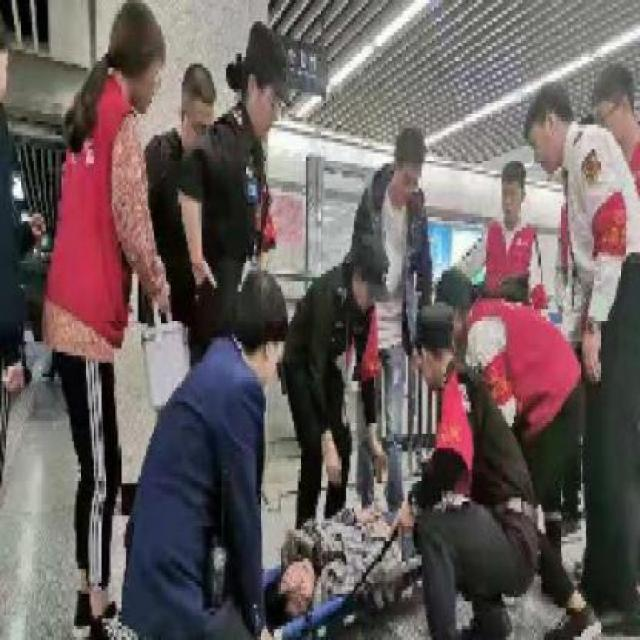fall: (252, 472, 436, 637)
